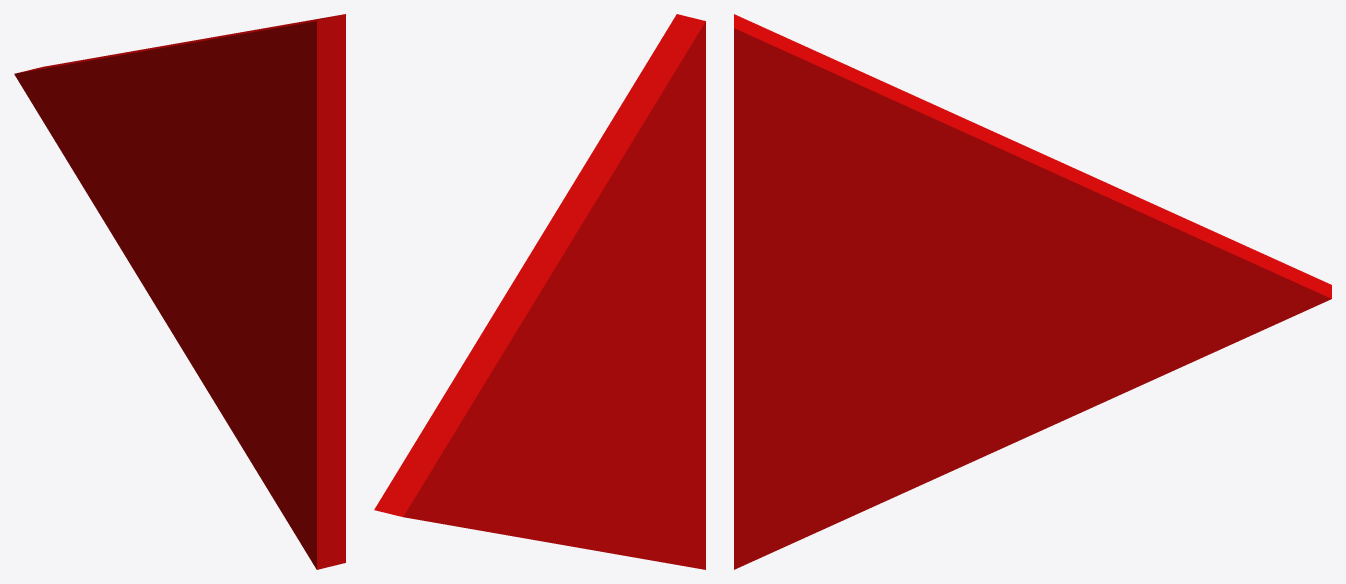
File: Flag.fbx
3 renders of one model, left to right at view 1: azimuth 30°, elevation 25°; view 2: azimuth 150°, elevation 25°; view 3: azimuth 270°, elevation 25°, orthographic.
Parts seen in each view (by area): view 1: pPlane1; view 2: pPlane1; view 3: pPlane1.
Part boxes in pixels (left/top/right/bottom): pPlane1: left=14, top=14, right=345, bottom=569; pPlane1: left=374, top=14, right=705, bottom=569; pPlane1: left=734, top=14, right=1331, bottom=569.
Bounding box in the file's own units: 2.86e-05 × 0.000514 × 0.000514.
